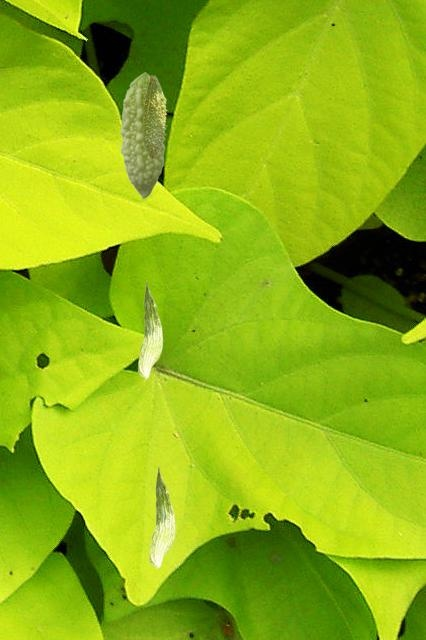ampalaya: (119, 71, 165, 199), (149, 465, 175, 570), (137, 280, 163, 380), (141, 74, 168, 159)
